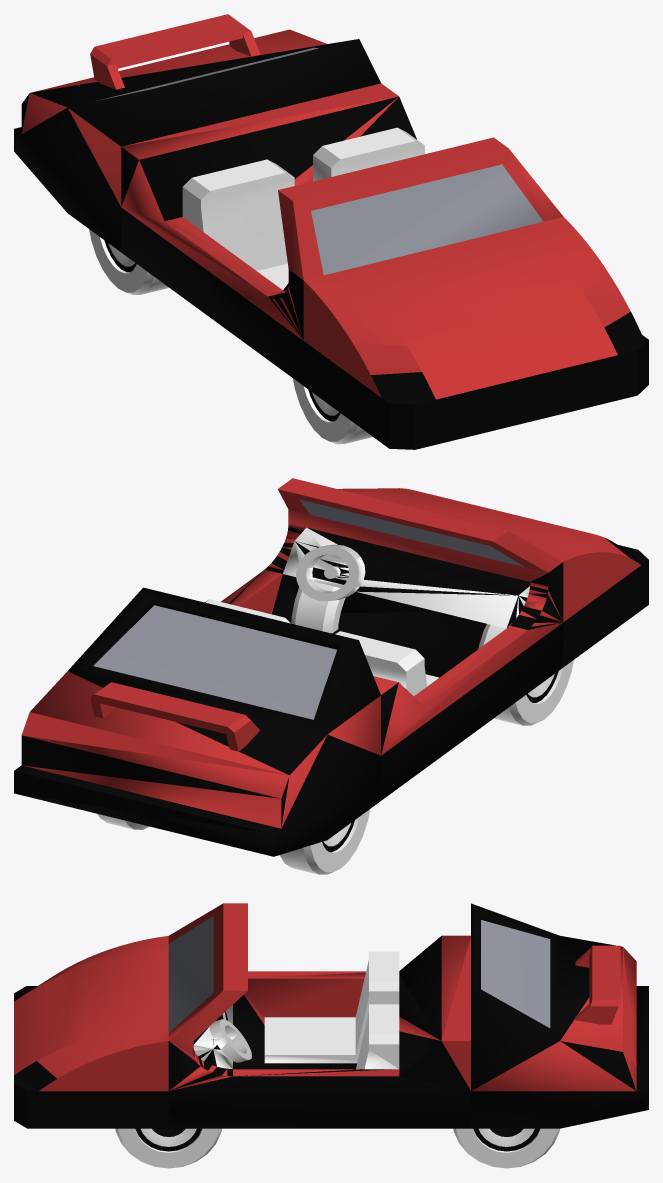
File: HamsterCar.fbx
The picture shows the model from 3 angles, top to bottom: view 1: azimuth 30°, elevation 25°; view 2: azimuth 150°, elevation 25°; view 3: azimuth 270°, elevation 25°; orthographic projection. The views are drawn at different scales.
Visible parts, largest first — view 1: windshield_jeep_3, hood_sport_0, trunk_default_40, detail_spoilerSmall_46, wheel_future_50, wheel_future_51; view 2: trunk_default_40, windshield_jeep_3, hood_sport_0, detail_spoilerSmall_46, wheel_future_51, wheel_future_50, wheel_future_52; view 3: windshield_jeep_3, trunk_default_40, hood_sport_0, wheel_future_53, wheel_future_52, detail_spoilerSmall_46.
Boxes of the visible parts, box(x1,y1,x2,y2) form: windshield_jeep_3: box(121, 83, 563, 385); hood_sport_0: box(303, 217, 648, 449); trunk_default_40: box(14, 29, 380, 251); detail_spoilerSmall_46: box(90, 14, 260, 89); wheel_future_50: box(293, 378, 372, 444); wheel_future_51: box(89, 229, 168, 294); trunk_default_40: box(14, 587, 380, 856); windshield_jeep_3: box(204, 478, 563, 800); hood_sport_0: box(338, 488, 648, 667); detail_spoilerSmall_46: box(90, 682, 259, 751); wheel_future_51: box(279, 809, 370, 874); wheel_future_50: box(478, 624, 573, 725); wheel_future_52: box(291, 582, 345, 633); windshield_jeep_3: box(168, 903, 470, 1128); trunk_default_40: box(471, 903, 648, 1128); hood_sport_0: box(14, 936, 168, 1128); wheel_future_53: box(453, 1128, 559, 1168); wheel_future_52: box(115, 1128, 221, 1168); detail_spoilerSmall_46: box(575, 945, 620, 1024).
Size of the model in its own units: 140 by 111 by 357.
